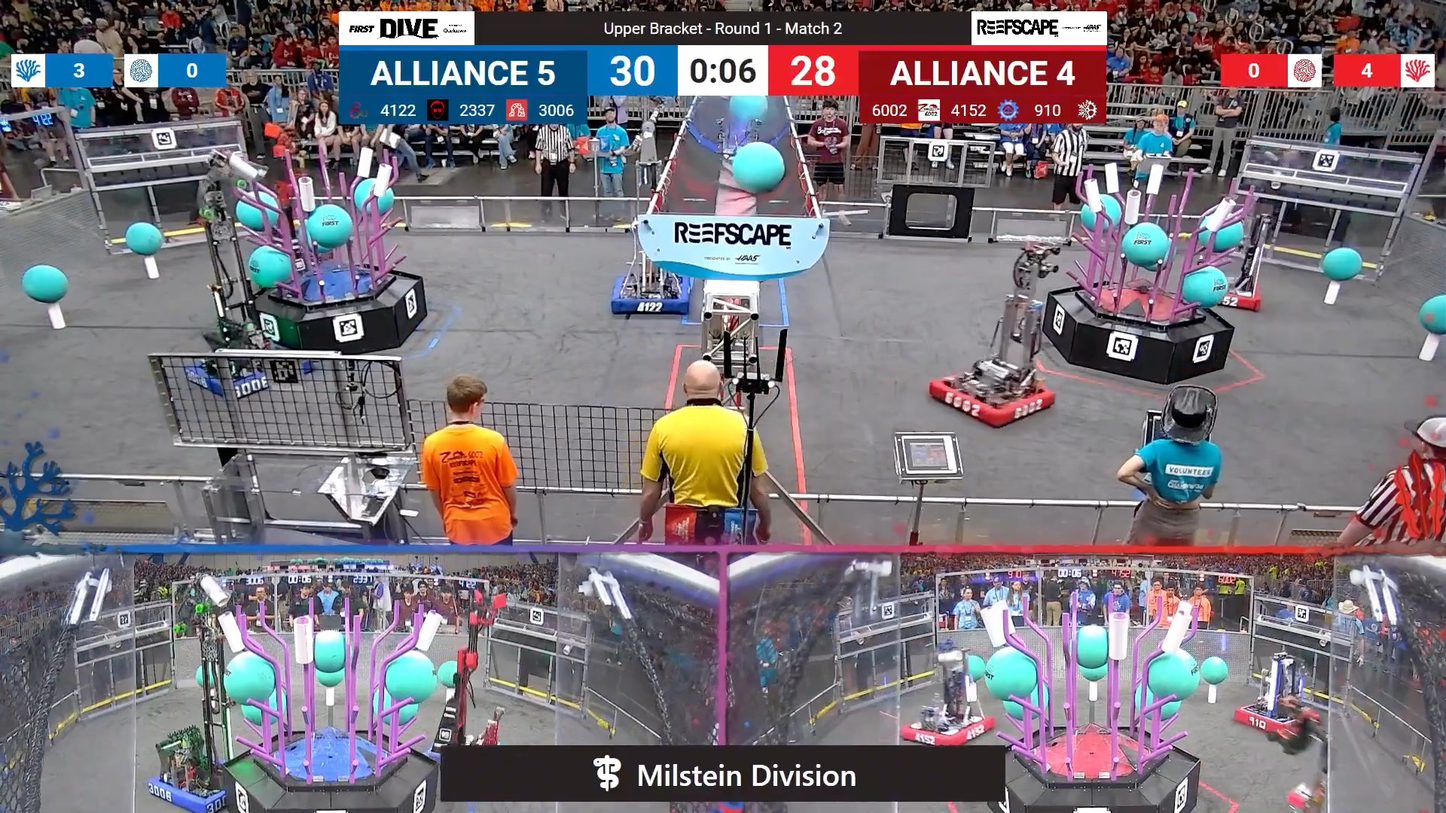bumpers: (923, 367, 1061, 427), (178, 346, 304, 400), (143, 757, 244, 812), (602, 266, 704, 320), (1230, 696, 1322, 744), (894, 709, 996, 746), (1197, 271, 1272, 310)
